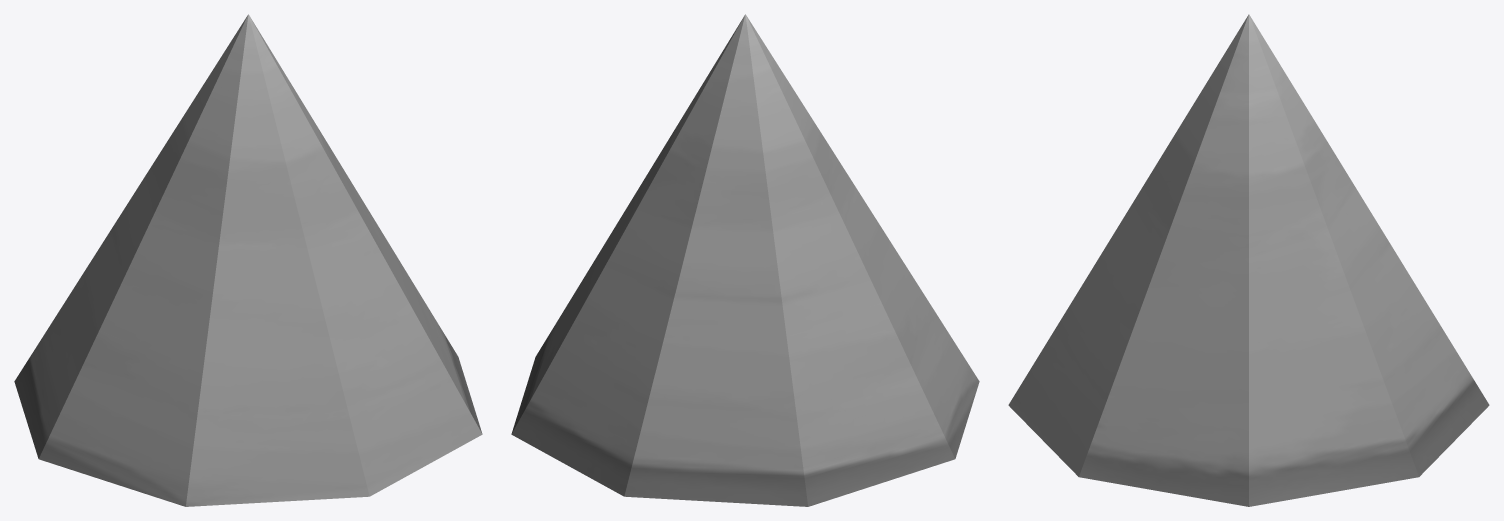
The model's file is OneBigSpike.fbx.
3 views of the same model, side by side, from view 1: azimuth 30°, elevation 25°; view 2: azimuth 150°, elevation 25°; view 3: azimuth 270°, elevation 25° (orthographic).
Parts seen in each view (by area): view 1: polySurface23; view 2: polySurface23; view 3: polySurface23.
Part boxes in pixels (bbox=[...]): polySurface23: bbox=[14, 14, 482, 506]; polySurface23: bbox=[511, 14, 979, 506]; polySurface23: bbox=[1008, 14, 1489, 506].
Size of the model in its own units: 40.87 by 36.66 by 40.87.
